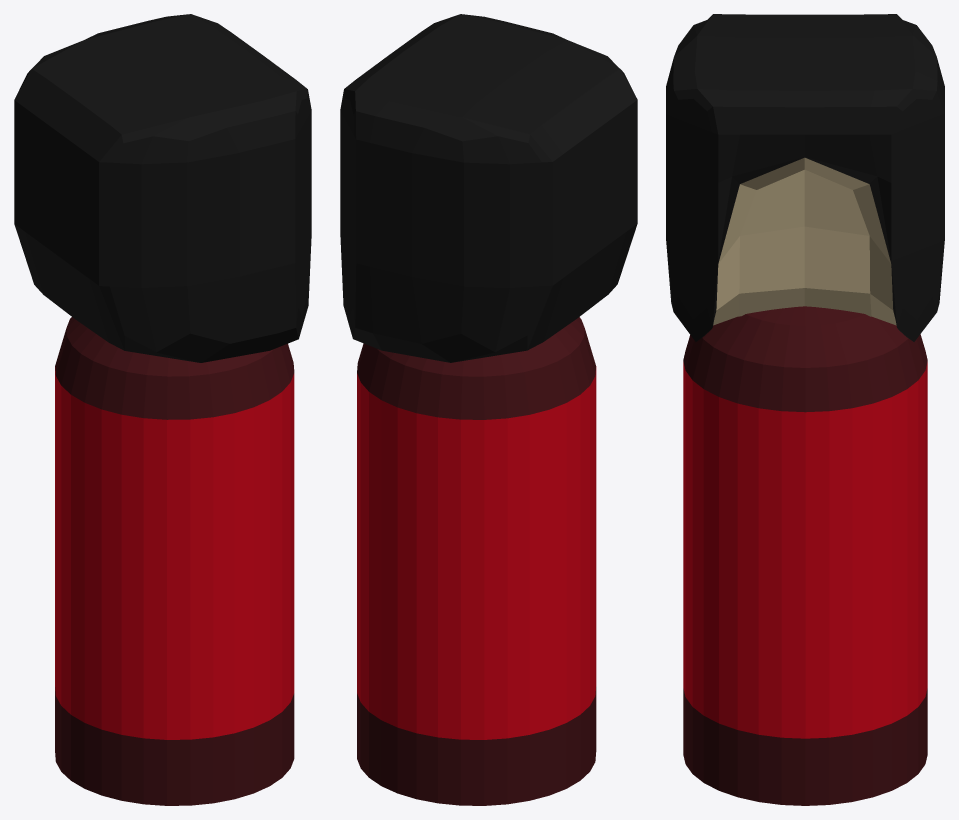
Rendered from kokesi.fbx.
3 views of the same model, side by side, from view 1: azimuth 30°, elevation 25°; view 2: azimuth 150°, elevation 25°; view 3: azimuth 270°, elevation 25° (orthographic). The views are drawn at different scales.
Visible parts, largest first — view 1: Cylinder, Cube; view 2: Cylinder, Cube; view 3: Cylinder, Cube.
Part boxes in pixels (x1,y1,x2,y2): Cylinder: (55, 317, 294, 805); Cube: (14, 14, 311, 362); Cylinder: (357, 317, 596, 805); Cube: (340, 14, 637, 362); Cylinder: (683, 306, 927, 805); Cube: (666, 14, 944, 341).
Size of the model in its own units: 214 by 631 by 228.
